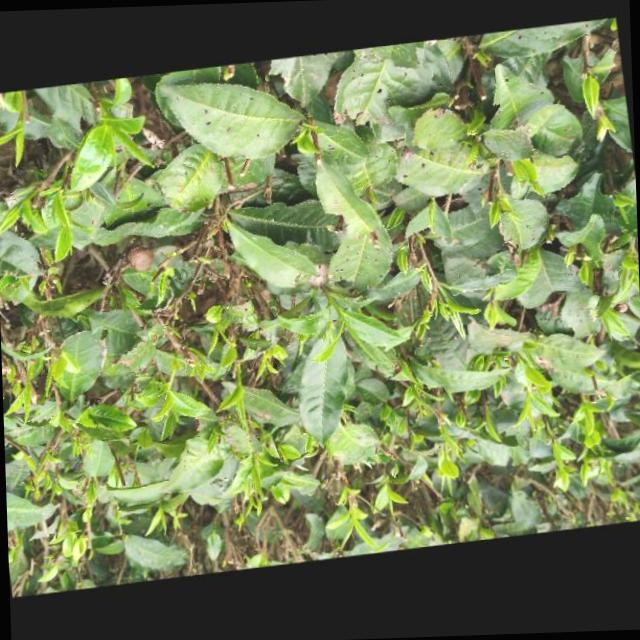Stem: (332, 305, 341, 316), (167, 374, 175, 384), (349, 503, 353, 512), (237, 374, 240, 382)
